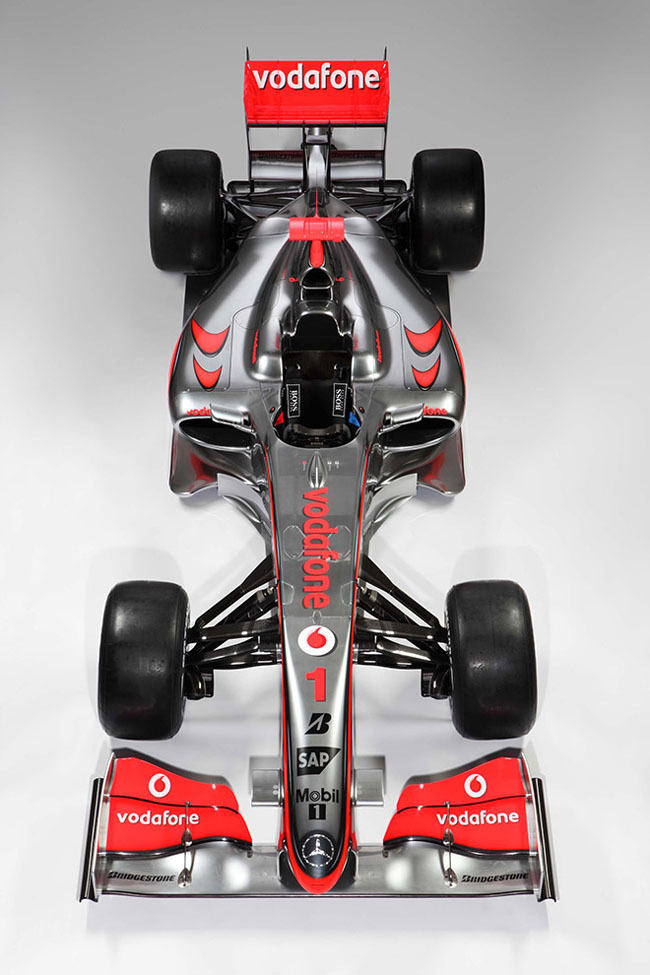f1_car: (51, 29, 579, 935)
